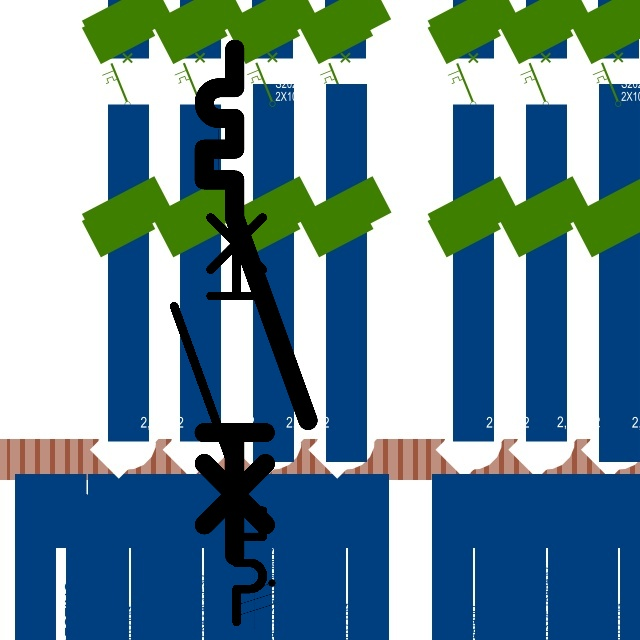interruptor_termomagnetico: (191, 36, 321, 569), (163, 180, 274, 633)
